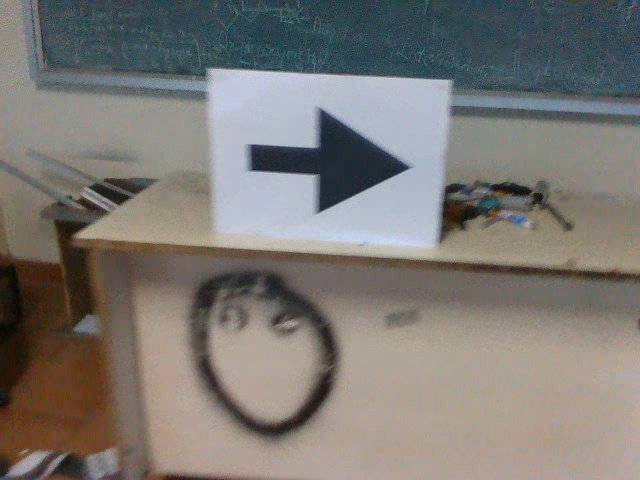Right: (236, 97, 418, 221)
